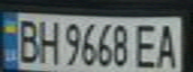6: (78, 20, 100, 68), (96, 20, 115, 68)
8: (112, 21, 133, 69)
9: (60, 19, 81, 66)
A: (154, 20, 184, 70)
B: (12, 16, 42, 64)
E: (133, 20, 160, 70)
H: (36, 17, 60, 64)
